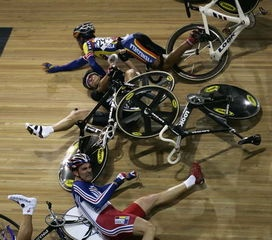falling: (45, 13, 199, 76)
